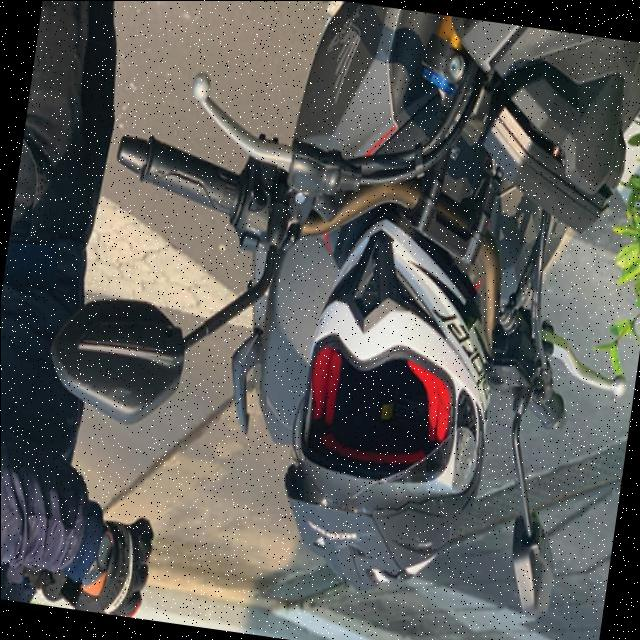Helm: (267, 200, 518, 604)
